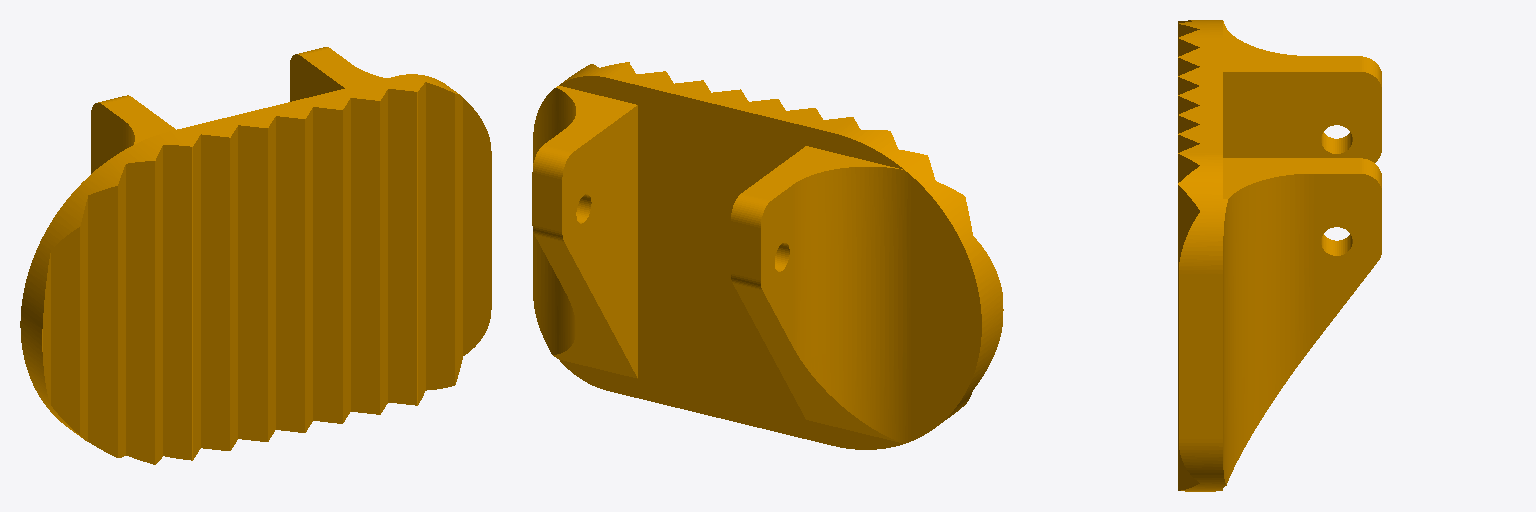
The robot description file, URDF, robot "humanoideRaul":
<?xml version="0.0" ?>
<robot name="humanoideRaul">
	<link name= "pieDerecho">
		<visual>
			<origin xyz="0.0 -1 -10" rpy="0.0 0.0 0.0"/>
			<geometry>
				<mesh filename="mesh/pieDer.stl" scale="1.0"/>
			</geometry>
		</visual>
		<collision>
			<origin xyz="0.0 -1 -10" rpy="0.0 0.0 0.0"/>
			<geometry>
				<mesh filename="mesh/pieDer.stl" scale="1.0"/>
			</geometry>
		</collision>
	</link>    
</robot>

--- Render facts (derived) ---
Views: 3 orthographic renders of the robot side by side, from view 1: azimuth 30°, elevation 25°; view 2: azimuth 150°, elevation 25°; view 3: azimuth 270°, elevation 25°.
Robot: humanoideRaul — 1 links, 0 joints (none); root link pieDerecho; default pose: all joints at 0.
Visible links, largest first — view 1: pieDerecho; view 2: pieDerecho; view 3: pieDerecho.
Boxes of the visible links, <box> form: pieDerecho: <box>20,47,491,464</box>; pieDerecho: <box>532,62,1003,449</box>; pieDerecho: <box>1178,20,1381,491</box>.
Bounding box of the posed robot: 120 × 45 × 80 m (x, y, z).
Meshes: 1 distinct files referenced, 1 mesh visuals loaded (1 binary STL).
